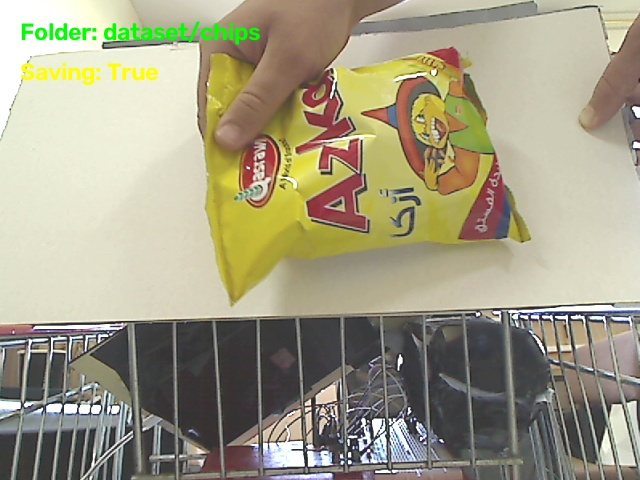chips: (205, 48, 529, 301)
